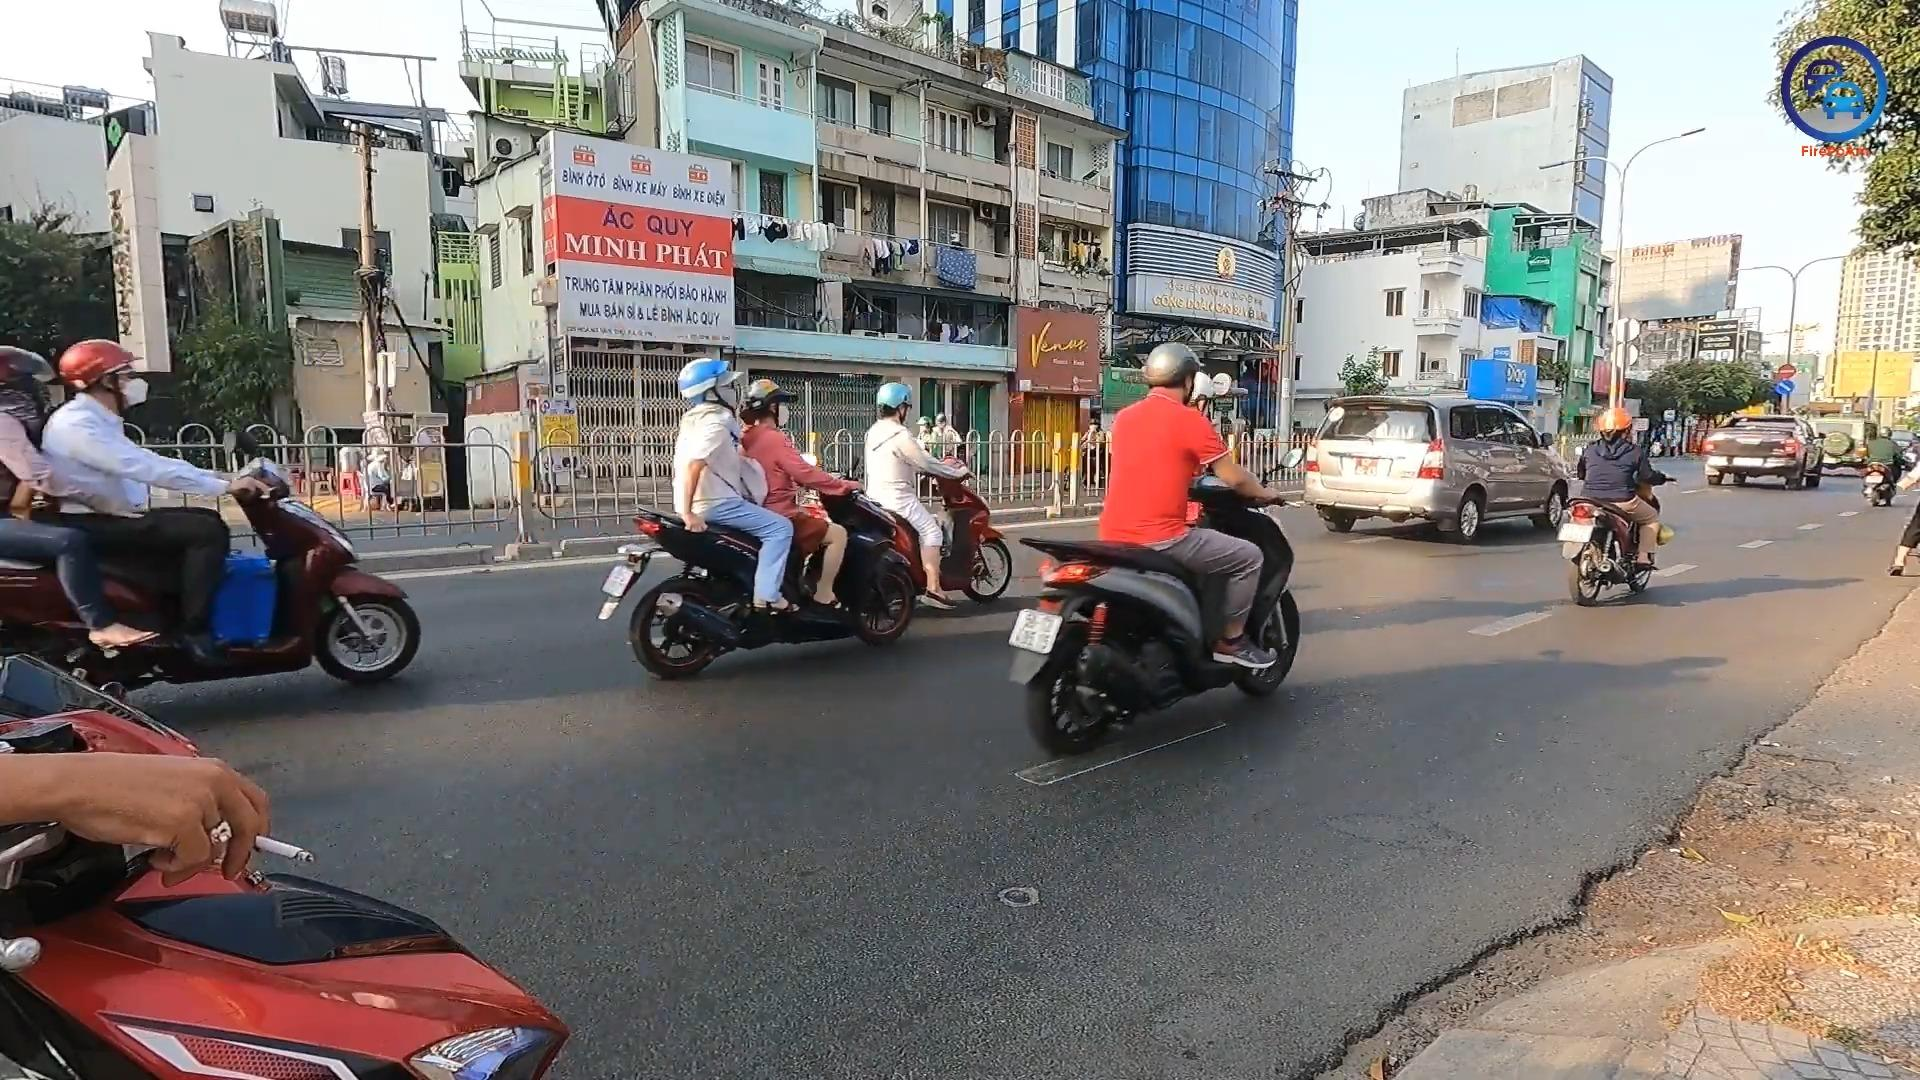bien_so: (1007, 608, 1064, 656), (599, 563, 635, 599), (1556, 521, 1595, 545), (1353, 456, 1380, 477)
